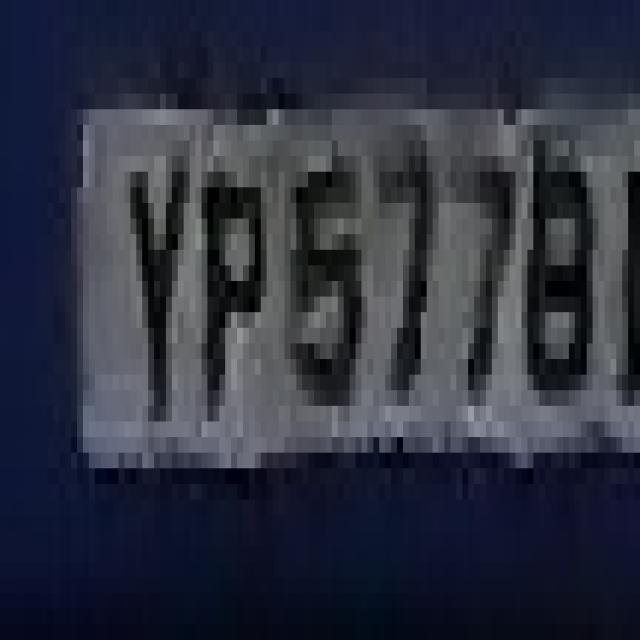5: (272, 125, 368, 421)
7: (415, 109, 521, 453), (350, 62, 432, 422)
8: (510, 94, 592, 452)
P: (178, 125, 261, 468)
Y: (112, 109, 196, 453)
